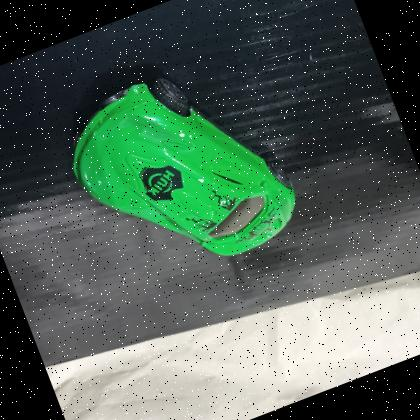Car: (45, 35, 320, 308)
